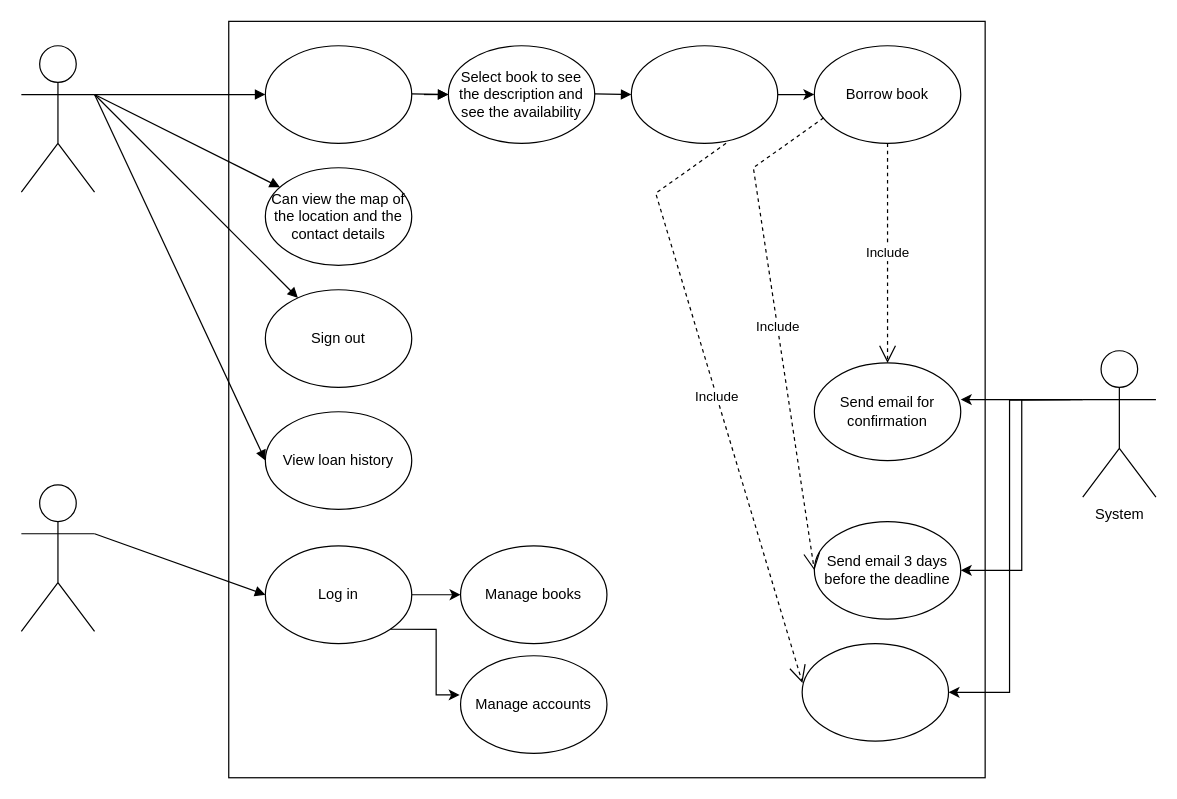
This 1177x799 diagram has some shape labels left out. Each missing label, with the box of its shape:
Admin: (20, 484, 95, 631)
Sign in or sign up: (630, 45, 778, 143)
User: (20, 45, 95, 192)
Verification good email and password: (801, 642, 949, 741)
View main page with book categories: (264, 45, 412, 143)
